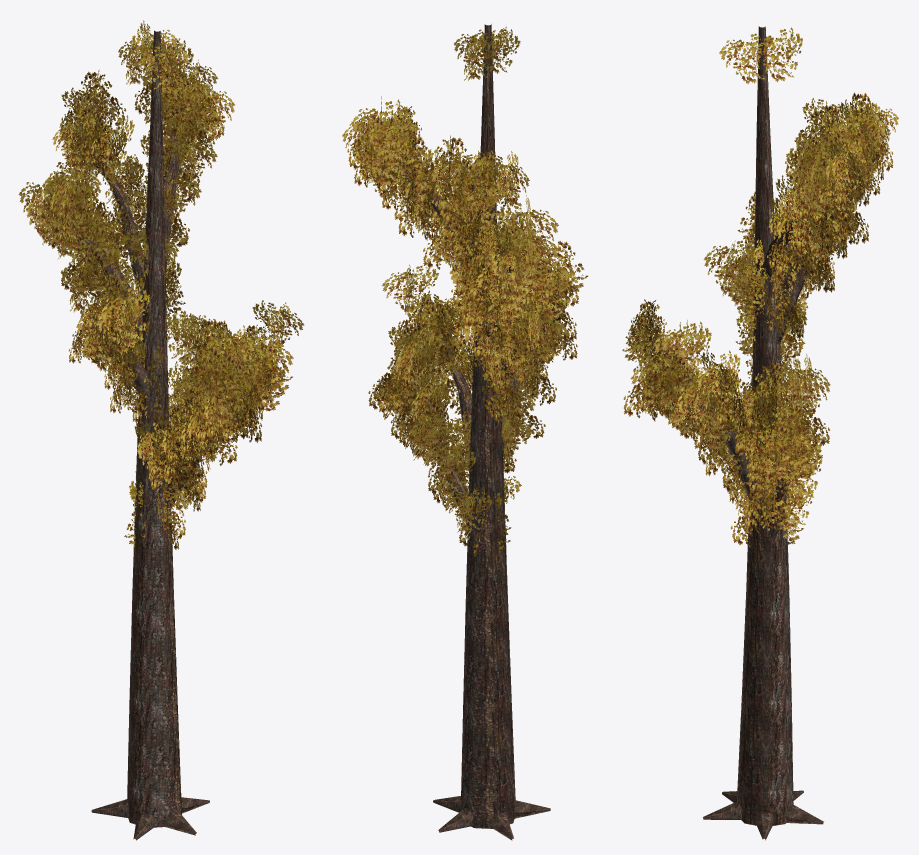
File: tree_3d_02_yellow_lod1.glb
3 renders of one model, left to right at view 1: azimuth 30°, elevation 25°; view 2: azimuth 150°, elevation 25°; view 3: azimuth 270°, elevation 25°, orthographic.
Parts seen in each view (by area): view 1: foliage_cards, wood_geometry; view 2: foliage_cards, wood_geometry; view 3: foliage_cards, wood_geometry.
Part boxes in pixels (left/top/right/bottom): foliage_cards: left=18, top=20, right=304, bottom=549; wood_geometry: left=70, top=30, right=272, bottom=840; foliage_cards: left=342, top=26, right=588, bottom=556; wood_geometry: left=373, top=24, right=558, bottom=840; foliage_cards: left=622, top=27, right=898, bottom=552; wood_geometry: left=692, top=26, right=851, bottom=840.
Size of the model in its own units: 3.82 by 12.59 by 4.1.
Materials: 2 (2 with a texture image).
